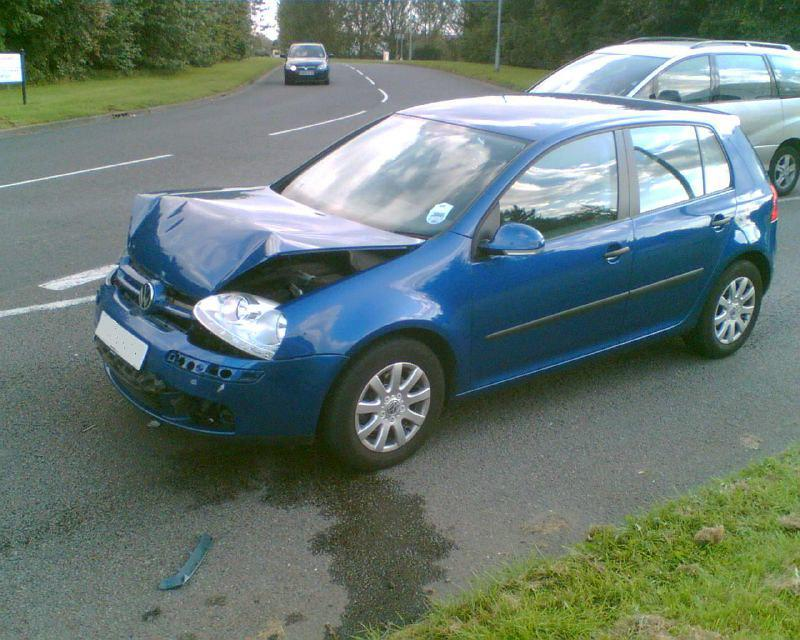Headlight-Damage: (196, 285, 299, 371)
bonnet-dent: (124, 190, 380, 298)
